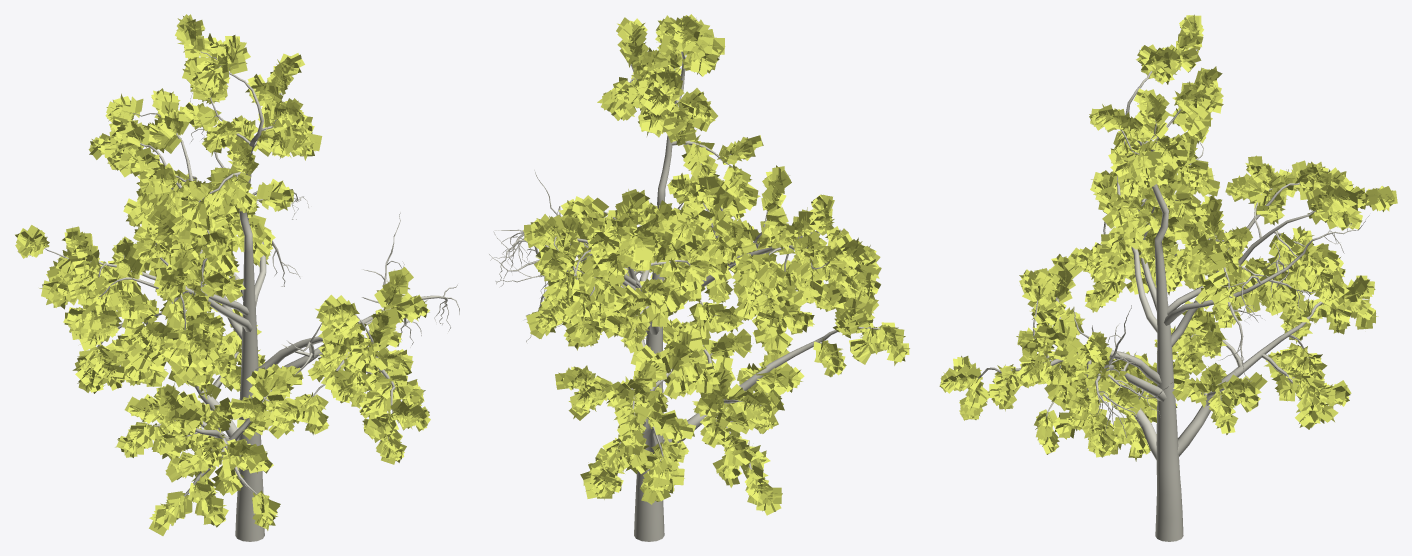
The model's file is entry_tree.glb.
The picture shows the model from 3 angles, left to right: view 1: azimuth 30°, elevation 25°; view 2: azimuth 150°, elevation 25°; view 3: azimuth 270°, elevation 25°; orthographic projection. The views are drawn at different scales.
Visible parts, largest first — view 1: leaves, branches; view 2: leaves, branches; view 3: leaves, branches.
Boxes of the visible parts, x1,y1,x2,y2 form: leaves: (15,14,430,535); branches: (44,51,459,541); leaves: (523,14,909,515); branches: (489,51,880,541); leaves: (939,14,1397,461); branches: (977,71,1369,541).
Bounding box in the file's own units: 62.5 × 78.03 × 65.
